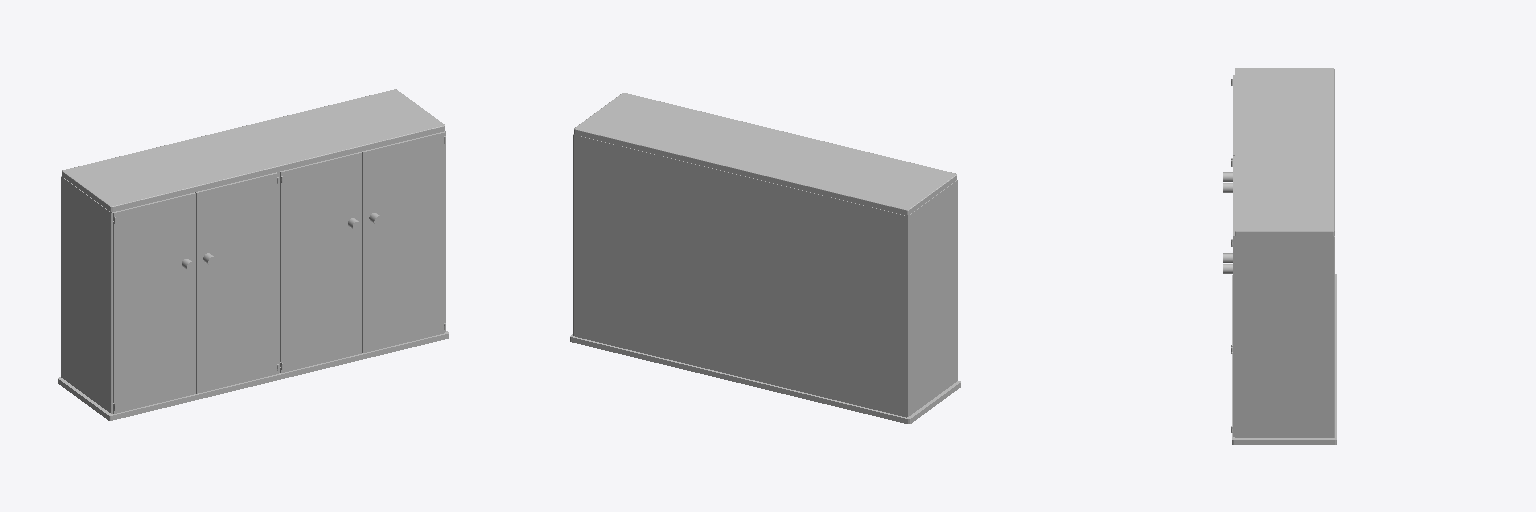
The model's file is Cabinet.obj.
The picture shows the model from 3 angles: view 1: azimuth 30°, elevation 25°; view 2: azimuth 150°, elevation 25°; view 3: azimuth 270°, elevation 25°; orthographic projection.
Visible parts, largest first — view 1: Cube.002_Cube.003; view 2: Cube.002_Cube.003; view 3: Cube.002_Cube.003.
Boxes of the visible parts, <box> form: Cube.002_Cube.003: <box>58,89,448,420</box>; Cube.002_Cube.003: <box>570,93,960,423</box>; Cube.002_Cube.003: <box>1223,68,1336,444</box>.
Bounding box in the file's own units: 7.86 × 4.69 × 2.28.